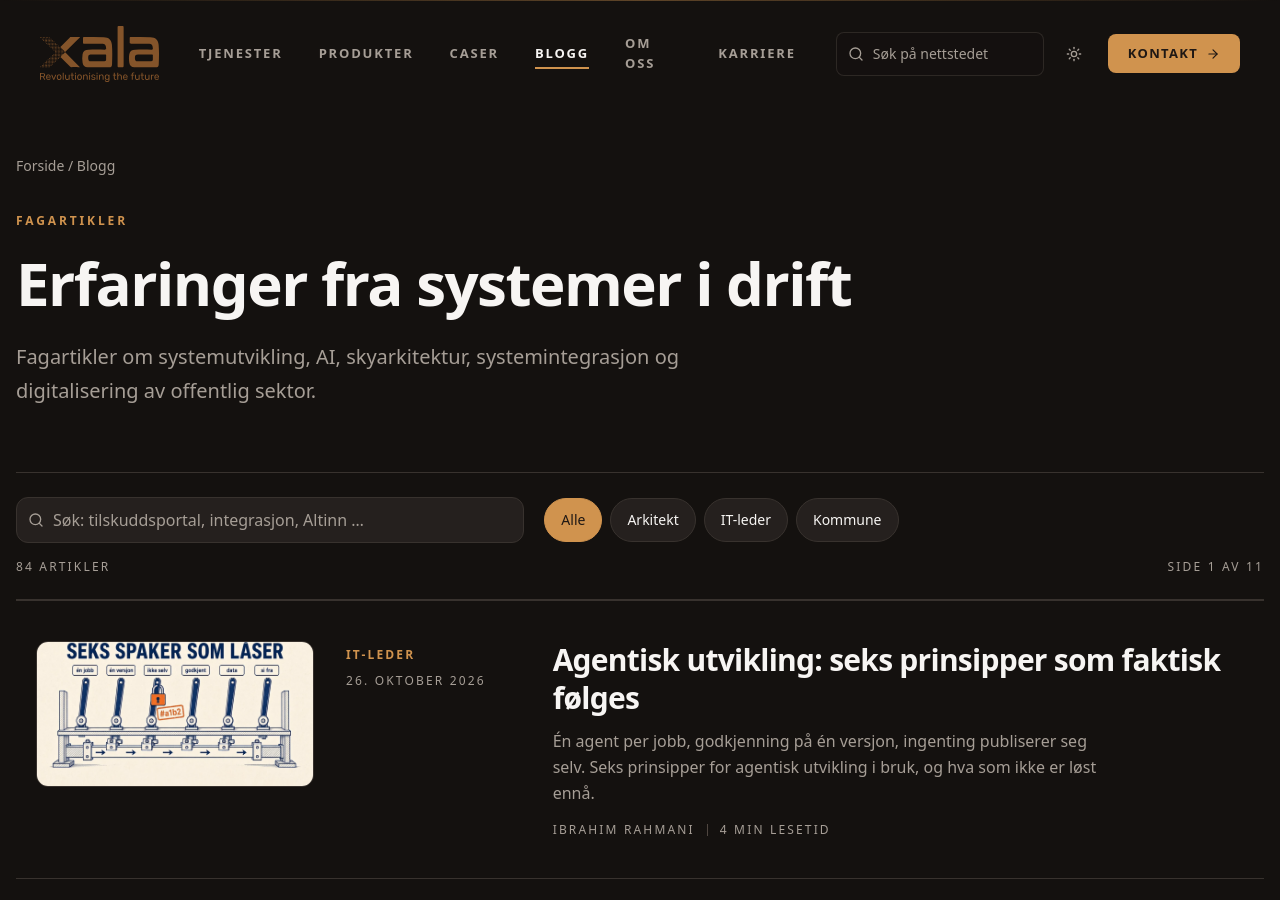
BloggPage search › picks up a query submitted from the navbar while the page is already mounted
The image size is (1280, 900).
Type "tilskuddsportal" into the search field with id "nav-sok". click: [940, 54]
box: [836,32,1044,76]
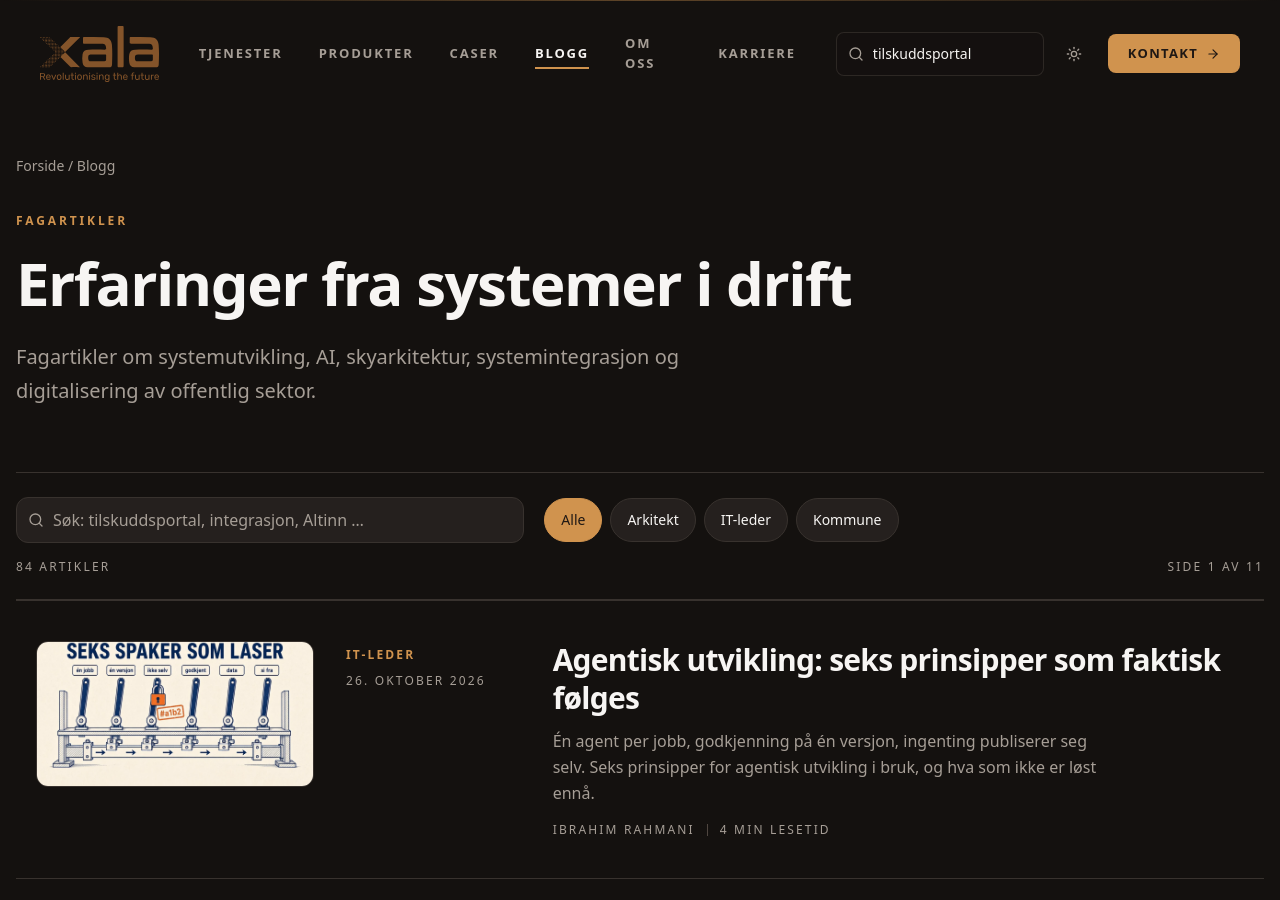
Submit the form with id "nav-sok", box [836,32,1044,76]
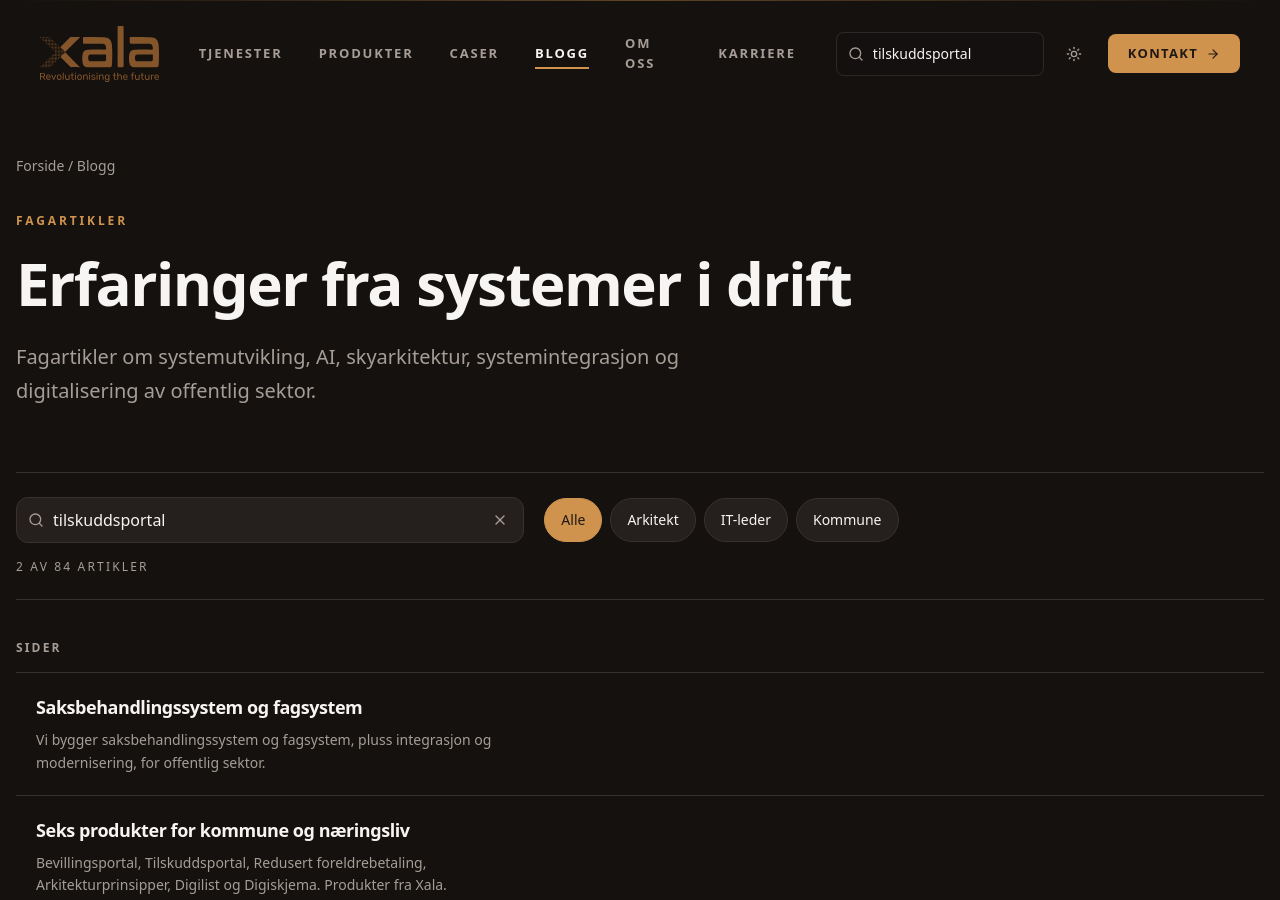
Result: the search field with id "blogg-sok" holds "tilskuddsportal" at [16,497,524,543]
